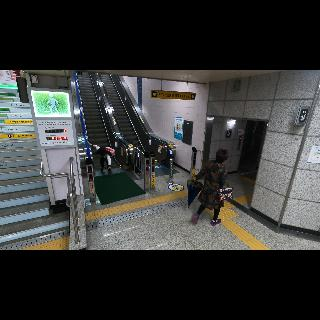anomaly: (88, 142, 116, 174)
normal: (187, 147, 230, 227)
